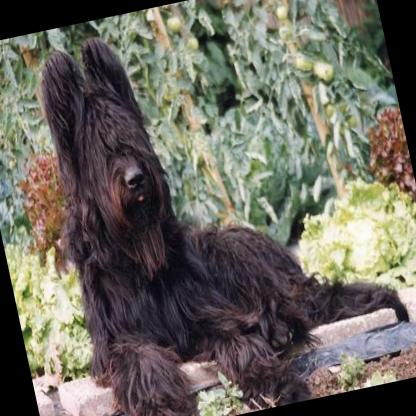briard: (20, 0, 416, 416)
